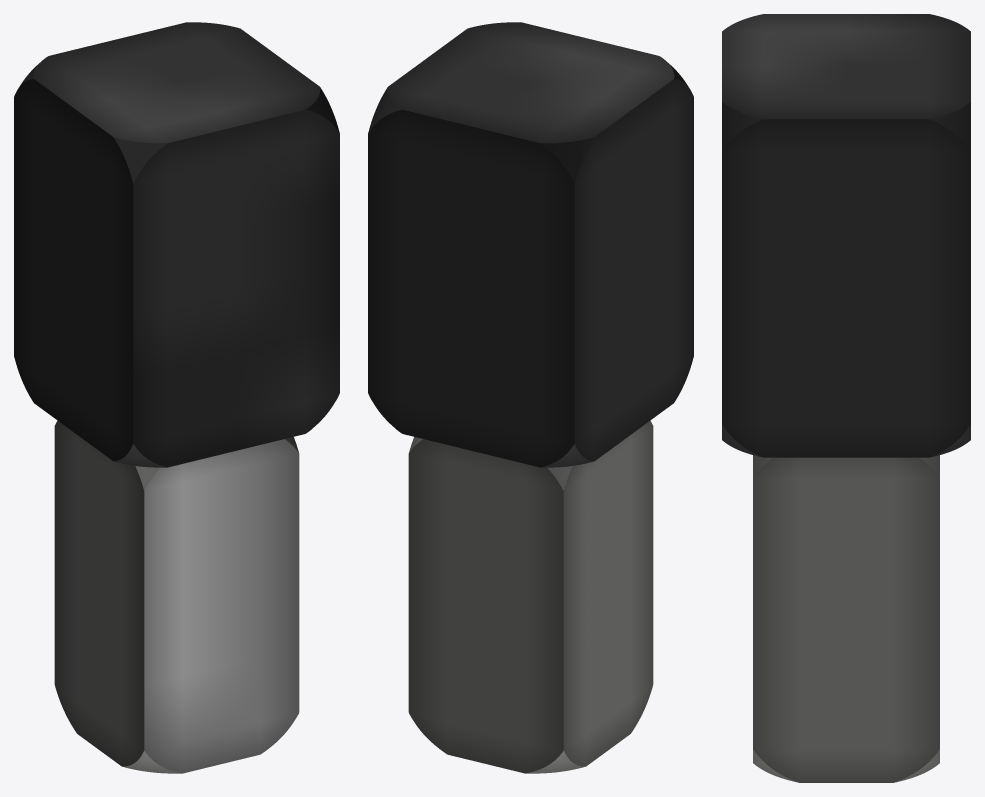
The model's file is reverser.obj.
The picture shows the model from 3 angles, left to right: view 1: azimuth 30°, elevation 25°; view 2: azimuth 150°, elevation 25°; view 3: azimuth 270°, elevation 25°; orthographic projection. The views are drawn at different scales.
Size of the model in its own units: 0.05 by 0.15 by 0.05.
